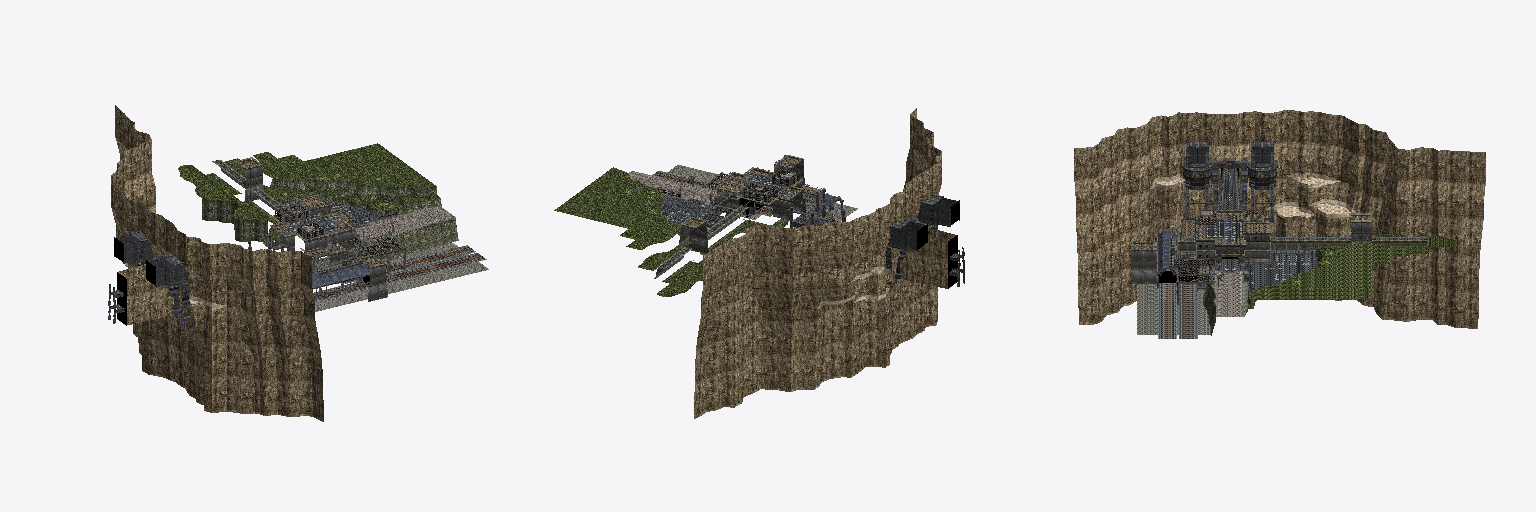
3 views of the same model, side by side, from view 1: azimuth 30°, elevation 25°; view 2: azimuth 150°, elevation 25°; view 3: azimuth 270°, elevation 25° (orthographic).
Visible parts, largest first — view 1: Object.366, Object.357, Object.377, Object.360, Object.375, Object.355, Object.372, Object.356, Object.371, Object.376, Object.358, Object.367 (+17 smaller); view 2: Object.387, Object.385, Object.389, Object.403, Object.380, Object.379, Object.400, Object.376, Object.381, Object.405, Object.390, Object.388 (+19 smaller); view 3: Object.403, Object.379, Object.400, Object.355, Object.357, Object.410, Object.378, Object.391, Object.366, Object.409, Object.372, Object.367 (+28 smaller).
Boxes of the visible parts, box(x1,y1,x2,y2) form: Object.366: box(259, 357, 303, 416); Object.357: box(249, 269, 314, 314); Object.377: box(204, 349, 240, 413); Object.360: box(252, 312, 303, 358); Object.375: box(149, 319, 183, 387); Object.355: box(195, 257, 250, 310); Object.372: box(203, 305, 240, 354); Object.356: box(249, 249, 311, 287); Object.371: box(128, 291, 204, 347); Object.376: box(181, 329, 205, 404); Object.358: box(195, 237, 248, 279); Object.367: box(302, 358, 323, 421); Object.387: box(761, 331, 813, 391); Object.385: box(752, 288, 816, 334); Object.389: box(851, 306, 889, 377); Object.403: box(707, 339, 743, 411); Object.380: box(752, 243, 818, 290); Object.379: box(820, 232, 874, 287); Object.400: box(709, 292, 743, 353); Object.376: box(899, 281, 926, 343); Object.381: box(746, 225, 805, 258); Object.405: box(900, 250, 955, 288); Object.390: box(816, 319, 851, 379); Object.388: box(800, 321, 831, 389); Object.403: box(1407, 261, 1456, 327); Object.379: box(1310, 130, 1364, 189); Object.400: box(1407, 213, 1460, 267); Object.355: box(1123, 132, 1174, 192); Object.357: box(1074, 148, 1123, 212); Object.410: box(1265, 176, 1317, 232); Object.378: box(1266, 128, 1319, 179); Object.391: box(1407, 169, 1462, 216); Object.366: box(1102, 246, 1126, 320); Object.409: box(1316, 182, 1362, 236); Object.372: box(1139, 187, 1172, 239); Object.367: box(1078, 261, 1101, 324).
Size of the model in its own units: 166 by 79.5 by 174.
33 materials, 33 textured.